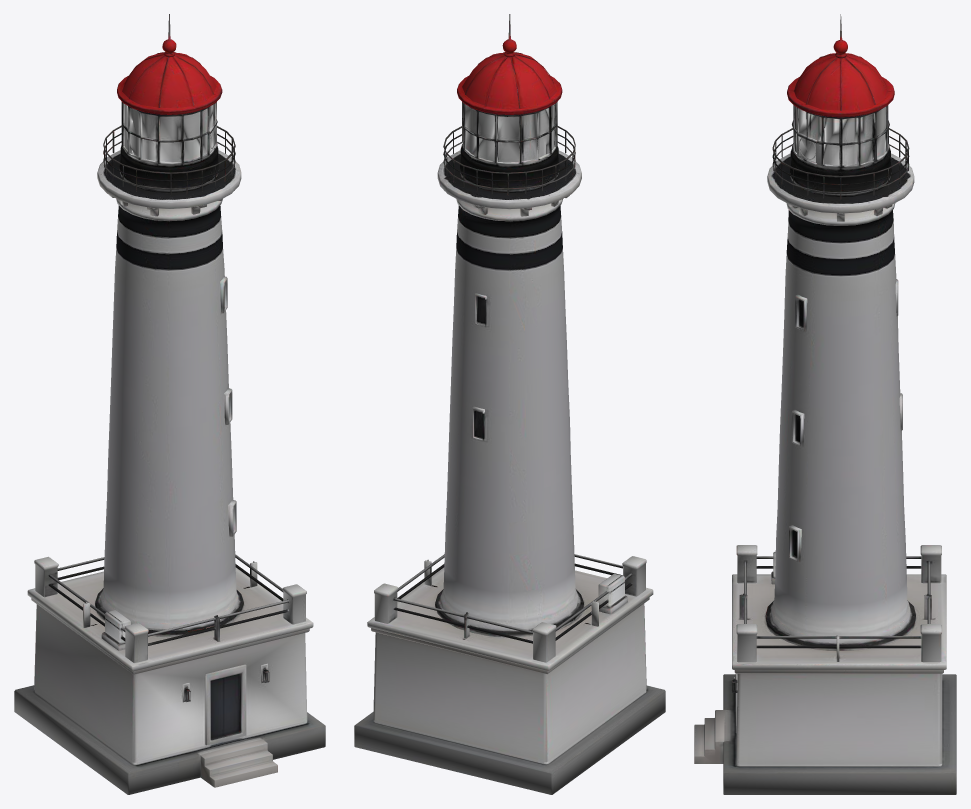
The model's file is manara.glb.
3 views of the same model, side by side, from view 1: azimuth 30°, elevation 25°; view 2: azimuth 150°, elevation 25°; view 3: azimuth 270°, elevation 25° (orthographic). The views are drawn at different scales.
Visible parts, largest first — view 1: tripo_node_00f91725-ffaa-48f8-889f-526fb508b216; view 2: tripo_node_00f91725-ffaa-48f8-889f-526fb508b216; view 3: tripo_node_00f91725-ffaa-48f8-889f-526fb508b216.
Boxes of the visible parts, bbox=[...] form: tripo_node_00f91725-ffaa-48f8-889f-526fb508b216: bbox=[14, 14, 325, 794]; tripo_node_00f91725-ffaa-48f8-889f-526fb508b216: bbox=[354, 14, 665, 794]; tripo_node_00f91725-ffaa-48f8-889f-526fb508b216: bbox=[694, 14, 956, 794].
Size of the model in its own units: 0.2896 by 0.9995 by 0.3247.
Materials: 1 (1 with a texture image).
